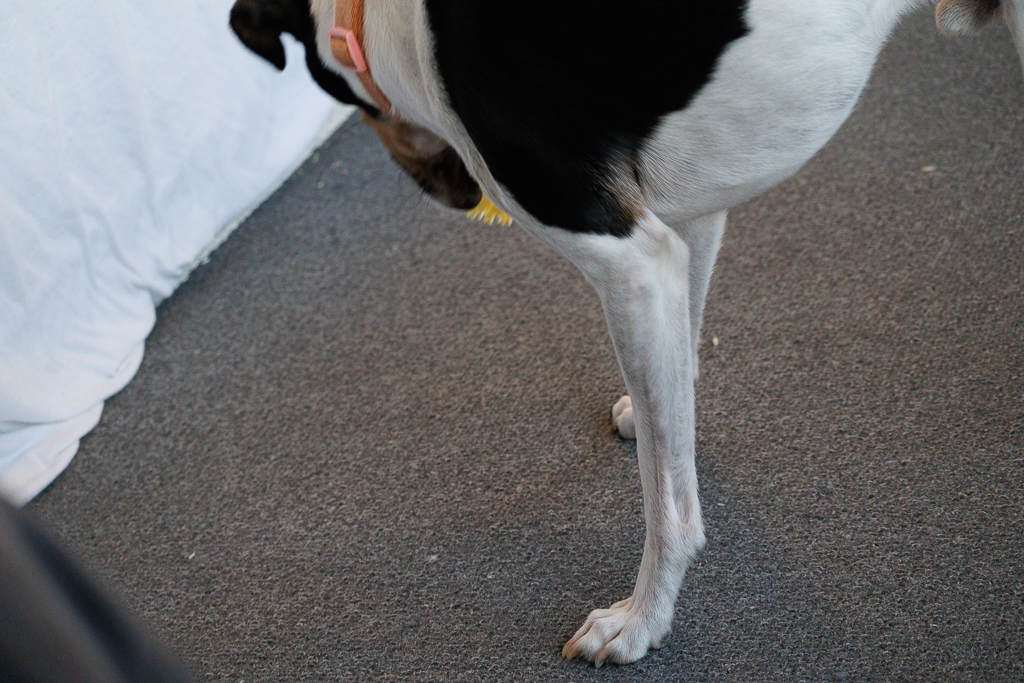Dog: (221, 0, 1024, 675)
